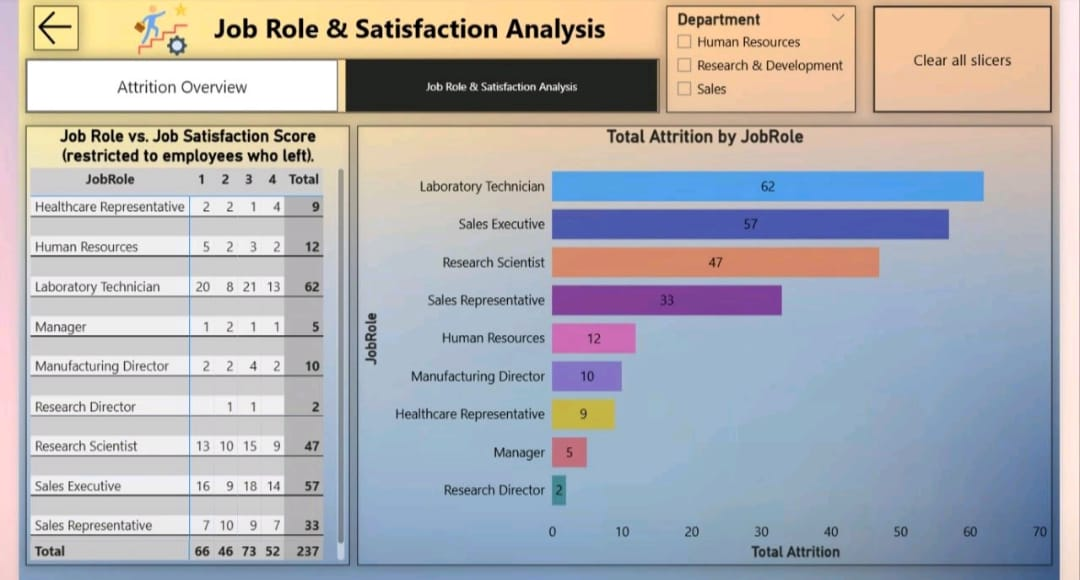

The dashboard page shown, as its layout file describes it:
{"tool":"powerbi","page":{"name":"Job Role & Satisfaction Analysis","canvas":[1280,720],"ordinal":1},"visuals":[{"type":"pageNavigator","box":[8.4,76,779.4,66.4],"z":0},{"type":"pivotTable","title":"Job Role vs. Job Satisfaction Score (restricted to employees who left).","fields":{"Rows":["HR_Analytics.JobRole"],"Values":["HR_Analytics.Attrition Count"],"Columns":["HR_Analytics.JobSatisfaction"]},"box":[8.4,158,398.1,540.5],"z":1000},{"type":"barChart","title":"Total Attrition by JobRole ","fields":{"Category":["HR_Analytics.JobRole"],"Y":["HR_Analytics.Total Attrition"],"Series":["HR_Analytics.JobRole"]},"box":[416.2,158,854.2,540.5],"z":2000},{"type":"slicer","fields":{"Values":["HR_Analytics.Department"]},"box":[796.3,10.9,232.8,131.5],"z":3000},{"type":"actionButton","box":[1050.8,10.9,219.6,131.5],"z":4000},{"type":"textbox","box":[235.3,10.9,536.9,54.3],"z":5000},{"type":"image","box":[114.6,1.2,120.6,76],"z":6000},{"type":"actionButton","box":[18.1,10.9,55.5,54.3],"z":7000}]}

Visuals, with their boxes in screenshot pixels (x1, y1, x2, y2):
pageNavigator: <bbox>15, 54, 657, 109</bbox>
"Job Role vs. Job Satisfaction Score (restricted to employees who left)." pivotTable: <bbox>15, 122, 343, 566</bbox>
"Total Attrition by JobRole " barChart: <bbox>351, 122, 1054, 566</bbox>
slicer - HR_Analytics.Department: <bbox>664, 1, 855, 109</bbox>
actionButton: <bbox>873, 1, 1054, 109</bbox>
textbox: <bbox>202, 1, 644, 45</bbox>
image: <bbox>103, 0, 202, 55</bbox>
actionButton: <bbox>23, 1, 69, 45</bbox>
